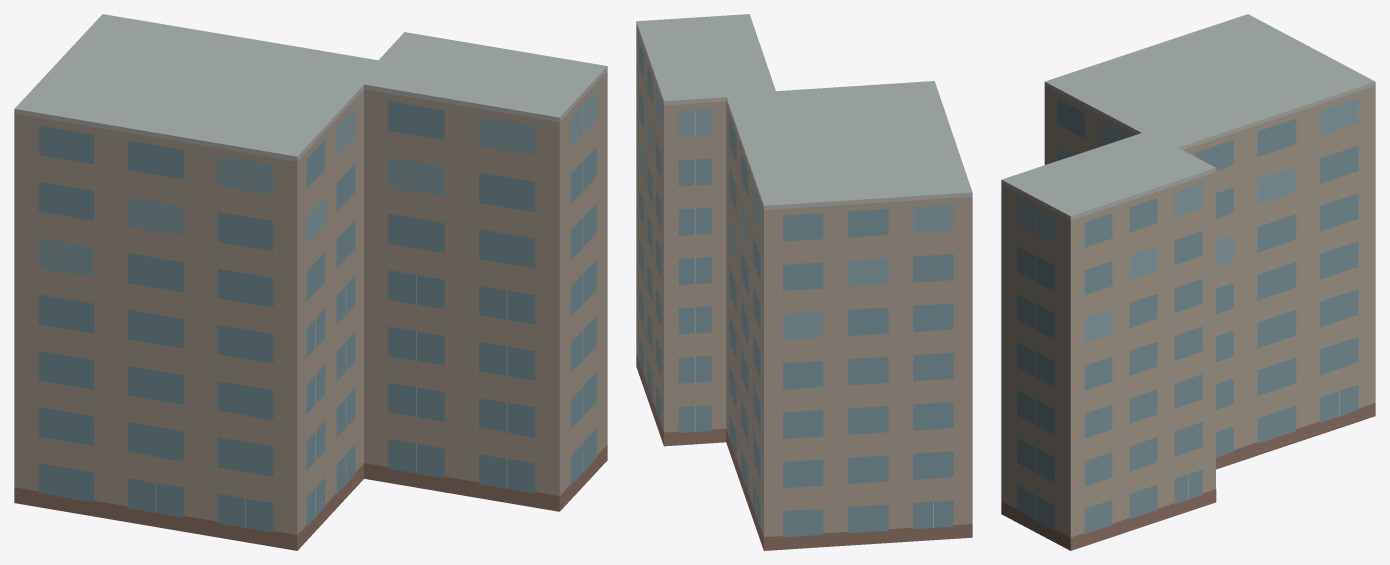
The model's file is survey-upis-32529516.glb.
3 renders of one model, left to right at view 1: azimuth 30°, elevation 25°; view 2: azimuth 150°, elevation 25°; view 3: azimuth 270°, elevation 25°, orthographic. The views are drawn at different scales.
Parts seen in each view (by area): view 1: survey-upis-32529516.tmp; view 2: survey-upis-32529516.tmp; view 3: survey-upis-32529516.tmp.
Boxes of the visible parts, bbox=[...] form: survey-upis-32529516.tmp: bbox=[14, 14, 607, 550]; survey-upis-32529516.tmp: bbox=[636, 14, 972, 550]; survey-upis-32529516.tmp: bbox=[1001, 14, 1375, 550].
Bounding box in the file's own units: 25.7 × 19.8 × 20.07.
